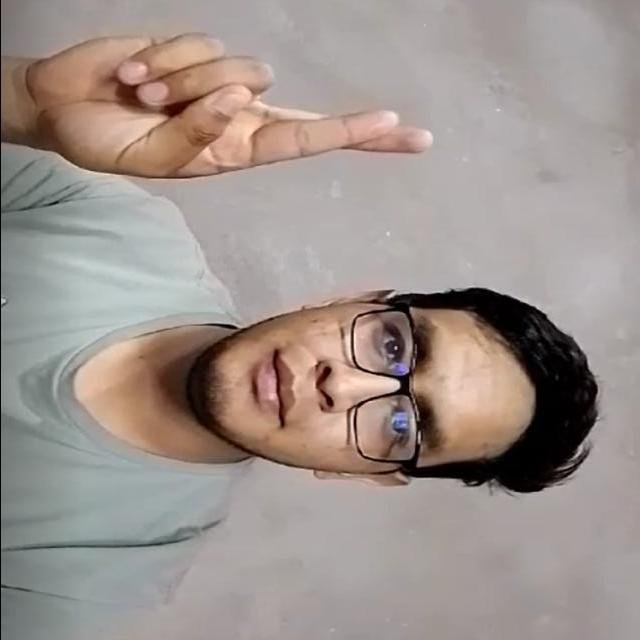R: (22, 28, 456, 212)
